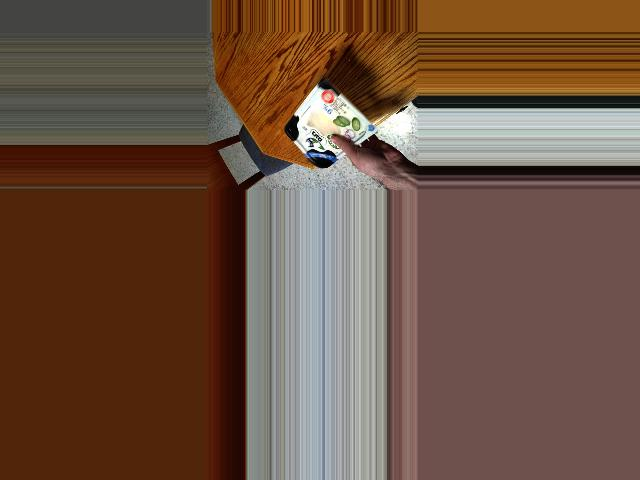cheese: (292, 89, 360, 168)
